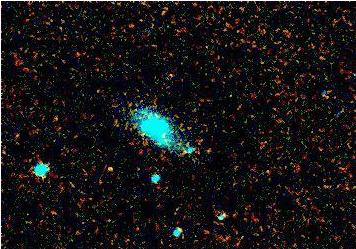star: (93, 155, 123, 185)
